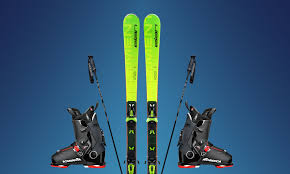skis: (120, 12, 163, 174)
